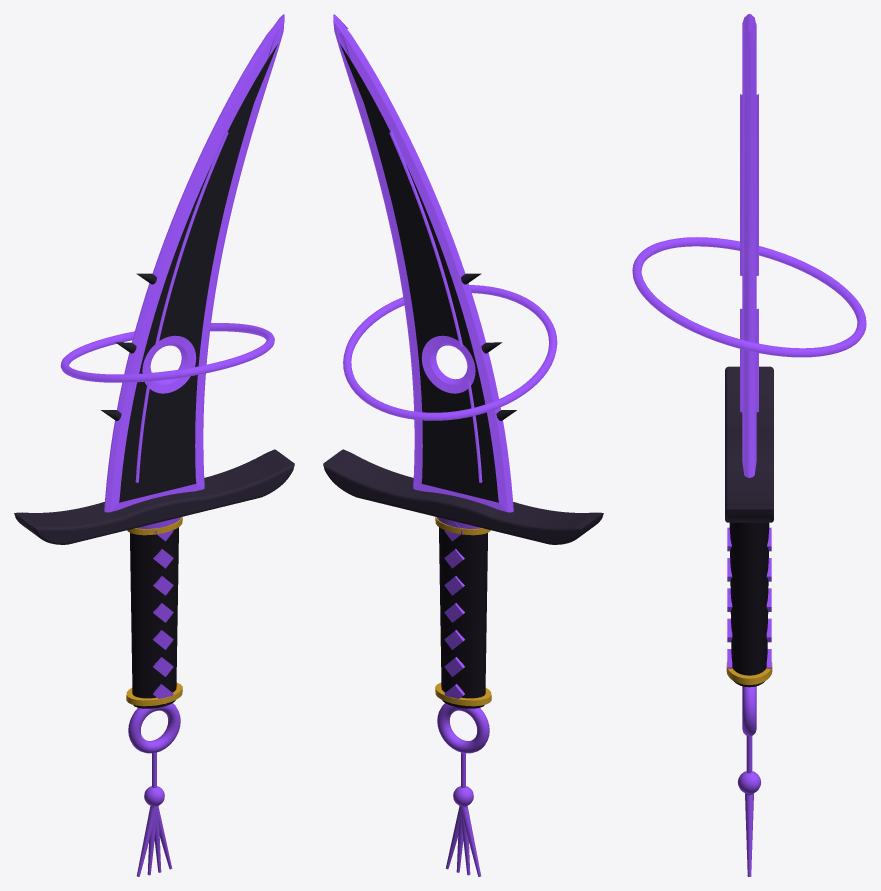
Rendered from 22_Epic_Hollow_Moon.glb.
3 renders of one model, left to right at view 1: azimuth 30°, elevation 25°; view 2: azimuth 150°, elevation 25°; view 3: azimuth 270°, elevation 25°, orthographic. The views are drawn at different scales.
Visible parts, largest first — view 1: blade_1, guard_wing_0, handle_2, aura_ring_25, pommel_ring_18, blade_inlay_29; view 2: blade_1, guard_wing_0, handle_2, aura_ring_25, pommel_ring_18, blade_inlay_28; view 3: blade_1, guard_wing_0, handle_2, aura_ring_25, pommel_ring_18, tassel_strand_24, blade_inlay_28, blade_inlay_29, grip_ring_35.
Boxes of the visible parts, box(x1,y1,x2,y2) form: blade_1: box(104, 14, 284, 512); guard_wing_0: box(14, 449, 294, 544); handle_2: box(130, 527, 178, 708); aura_ring_25: box(60, 323, 274, 382); pommel_ring_18: box(128, 703, 180, 753); blade_inlay_29: box(154, 131, 228, 346); blade_1: box(333, 14, 513, 512); guard_wing_0: box(323, 449, 603, 544); handle_2: box(439, 527, 487, 708); aura_ring_25: box(343, 285, 557, 420); pommel_ring_18: box(437, 703, 489, 753); blade_inlay_28: box(389, 131, 463, 346); blade_1: box(742, 14, 756, 477); guard_wing_0: box(725, 366, 773, 522); handle_2: box(729, 522, 769, 687); aura_ring_25: box(632, 237, 866, 357); pommel_ring_18: box(742, 686, 756, 736); tassel_strand_24: box(745, 793, 753, 876); blade_inlay_28: box(756, 94, 758, 275); blade_inlay_29: box(740, 94, 742, 275); grip_ring_35: box(726, 661, 772, 684).
Bounding box in the file's own units: 0.2877 × 0.8711 × 0.1996.
9 materials, 9 textured.
